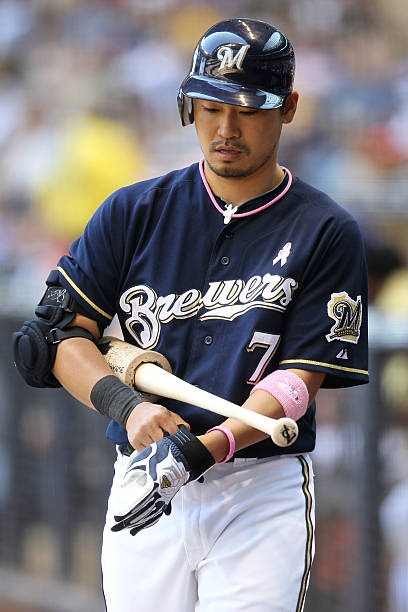bita: (93, 336, 296, 447)
